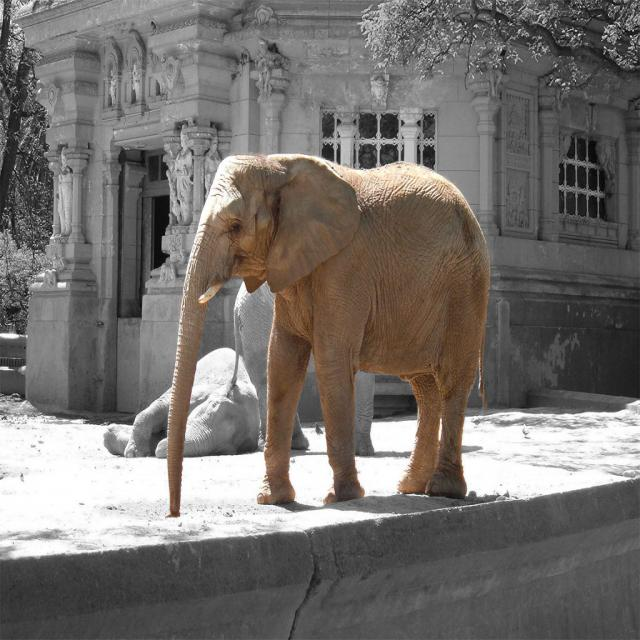elephant: (150, 139, 495, 511), (225, 278, 378, 457), (102, 341, 262, 457)
